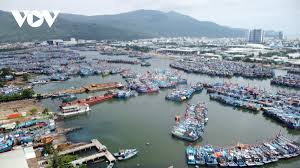tau_dansu: (164, 125, 201, 143), (181, 142, 198, 167), (165, 91, 189, 104)
